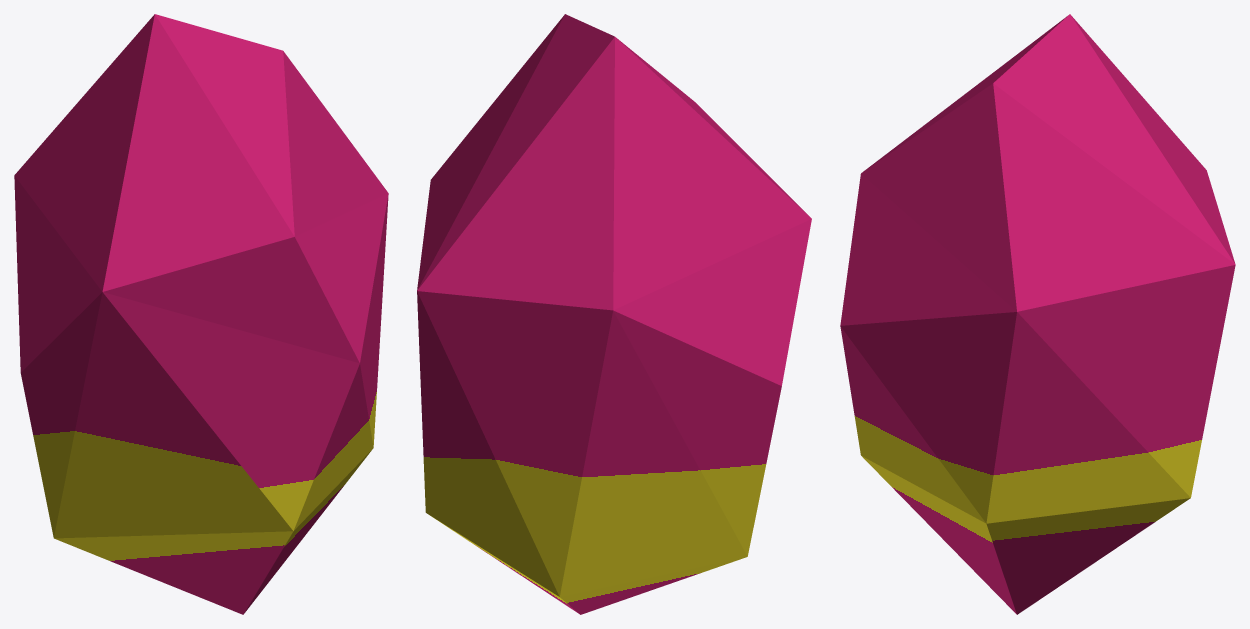
File: d_portal_stone.glb
3 views of the same model, side by side, from view 1: azimuth 30°, elevation 25°; view 2: azimuth 150°, elevation 25°; view 3: azimuth 270°, elevation 25° (orthographic). The views are drawn at different scales.
Parts seen in each view (by area): view 1: D_PortalStone; view 2: D_PortalStone; view 3: D_PortalStone.
Boxes of the visible parts, <box> form: D_PortalStone: <box>14,14,388,614</box>; D_PortalStone: <box>417,14,811,614</box>; D_PortalStone: <box>840,14,1235,614</box>.
Bounding box in the file's own units: 0.0588 × 0.0945 × 0.0591.
1 material, 1 textured.
